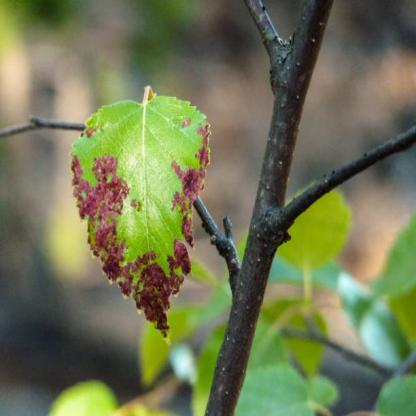apple scab leaf: (67, 70, 226, 348)
